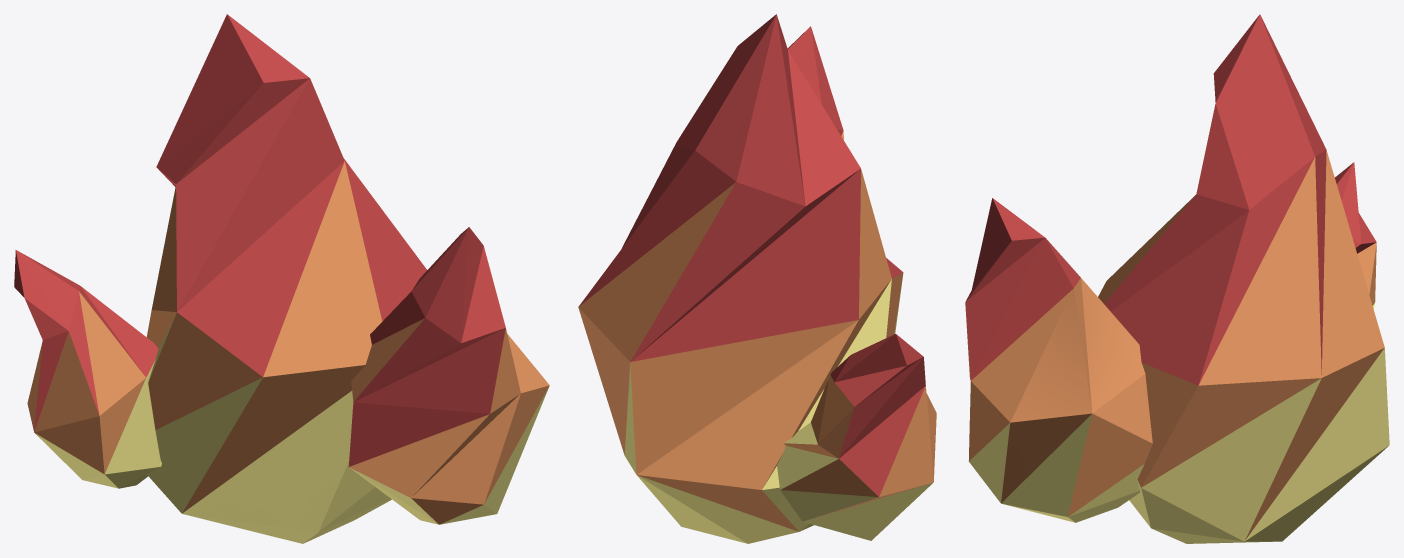
Rendered from isla_fantasma_secuencias_fuego.FBX.
3 views of the same model, side by side, from view 1: azimuth 30°, elevation 25°; view 2: azimuth 150°, elevation 25°; view 3: azimuth 270°, elevation 25° (orthographic). The views are drawn at different scales.
Parts seen in each view (by area): view 1: Secuencias_Escenario_Fuego_01, Secuencias_Escenario_Fuego_03, Secuencias_Escenario_Fuego_02; view 2: Secuencias_Escenario_Fuego_01, Secuencias_Escenario_Fuego_02, Secuencias_Escenario_Fuego_03; view 3: Secuencias_Escenario_Fuego_01, Secuencias_Escenario_Fuego_03, Secuencias_Escenario_Fuego_02.
Boxes of the visible parts, x1=… form: Secuencias_Escenario_Fuego_01: x1=146, y1=14, x2=426, y2=543; Secuencias_Escenario_Fuego_03: x1=348, y1=227, x2=549, y2=524; Secuencias_Escenario_Fuego_02: x1=14, y1=250, x2=161, y2=488; Secuencias_Escenario_Fuego_01: x1=578, y1=14, x2=903, y2=543; Secuencias_Escenario_Fuego_02: x1=777, y1=334, x2=936, y2=540; Secuencias_Escenario_Fuego_03: x1=787, y1=26, x2=843, y2=139; Secuencias_Escenario_Fuego_01: x1=1098, y1=14, x2=1389, y2=543; Secuencias_Escenario_Fuego_03: x1=965, y1=198, x2=1152, y2=522; Secuencias_Escenario_Fuego_02: x1=1335, y1=162, x2=1376, y2=309.
Size of the model in its own units: 36.5 by 47.2 by 37.09.
Materials: 1 (1 with a texture image).
